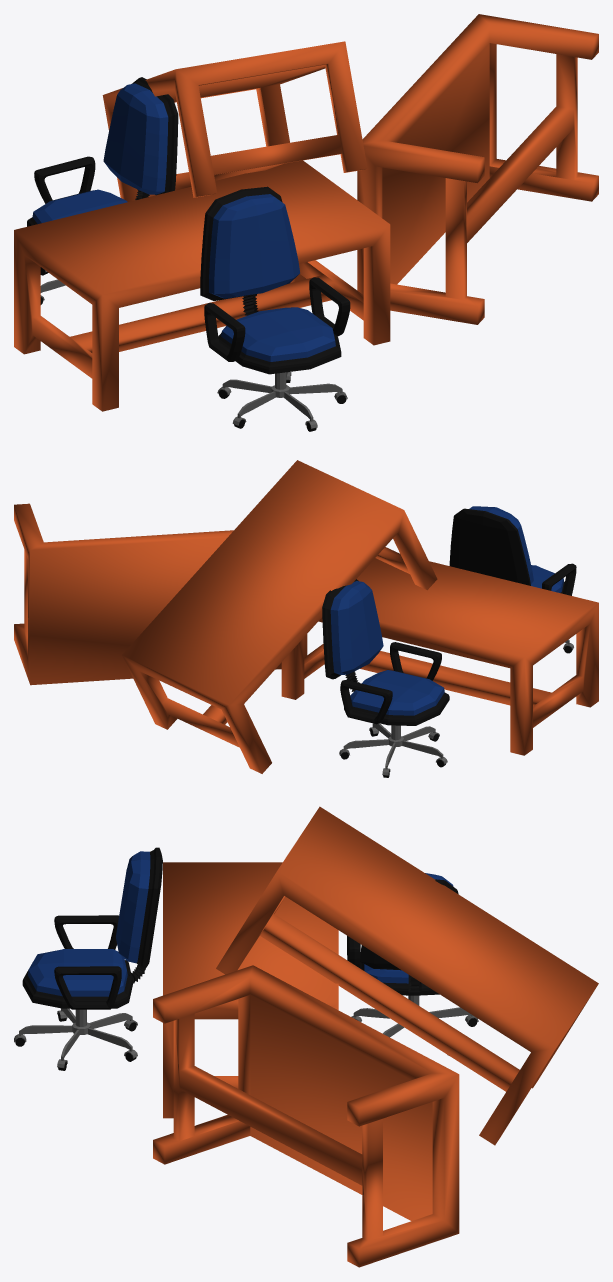
The picture shows the model from 3 angles, top to bottom: view 1: azimuth 30°, elevation 25°; view 2: azimuth 150°, elevation 25°; view 3: azimuth 270°, elevation 25°; orthographic projection. The views are drawn at different scales.
Visible parts, largest first — view 1: table, table.001, OfficeChair.001, table.002, OfficeChair; view 2: table.002, table, table.001, OfficeChair, OfficeChair.001; view 3: table.001, table.002, table, OfficeChair.001, OfficeChair.
Part boxes in pixels (x1,y1,x2,y2): table: (14,160,390,411); table.001: (357,14,598,324); OfficeChair.001: (200,186,350,431); table.002: (102,41,367,201); OfficeChair: (27,77,178,304); table.002: (122,460,437,773); table: (281,558,598,755); table.001: (14,503,307,685); OfficeChair: (322,579,449,777); OfficeChair.001: (449,506,576,653); table.001: (153,965,459,1267); table.002: (216,806,598,1145); table: (163,862,338,1118); OfficeChair.001: (14,847,162,1070); OfficeChair: (347,873,478,1055).
Size of the model in its own units: 3.7 by 1.52 by 3.17.
